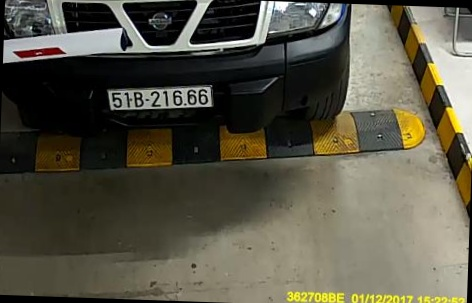plate: (105, 71, 214, 117)
